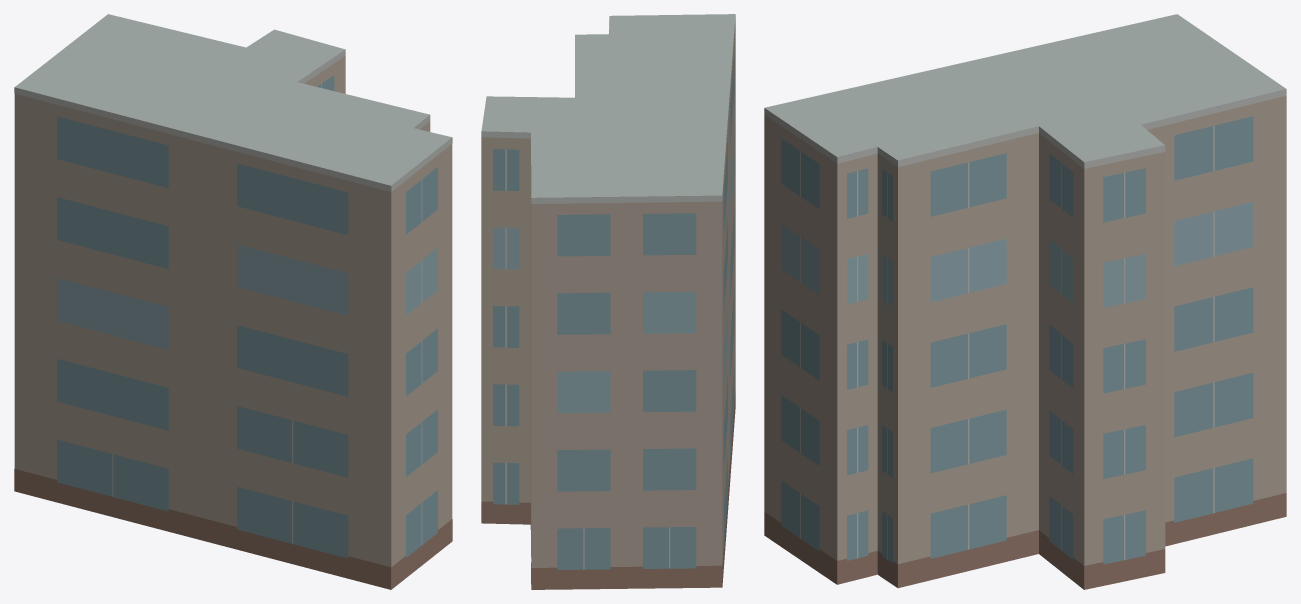
Rendered from survey-upis-32597054.glb.
3 renders of one model, left to right at view 1: azimuth 30°, elevation 25°; view 2: azimuth 150°, elevation 25°; view 3: azimuth 270°, elevation 25°, orthographic. The views are drawn at different scales.
Parts seen in each view (by area): view 1: survey-upis-32597054.tmp; view 2: survey-upis-32597054.tmp; view 3: survey-upis-32597054.tmp.
Part boxes in pixels (<box>): survey-upis-32597054.tmp: <box>14,14,452,589</box>; survey-upis-32597054.tmp: <box>481,14,735,589</box>; survey-upis-32597054.tmp: <box>764,14,1286,589</box>.
Bounding box in the file's own units: 11.72 × 15.75 × 17.45.
